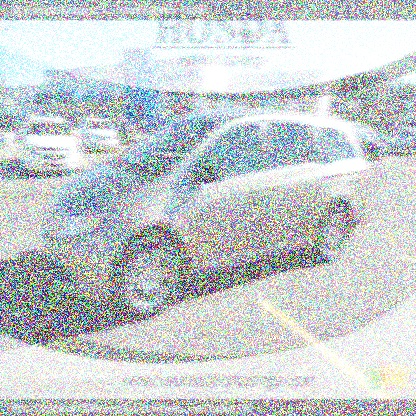Vehicle: (31, 103, 374, 324)
